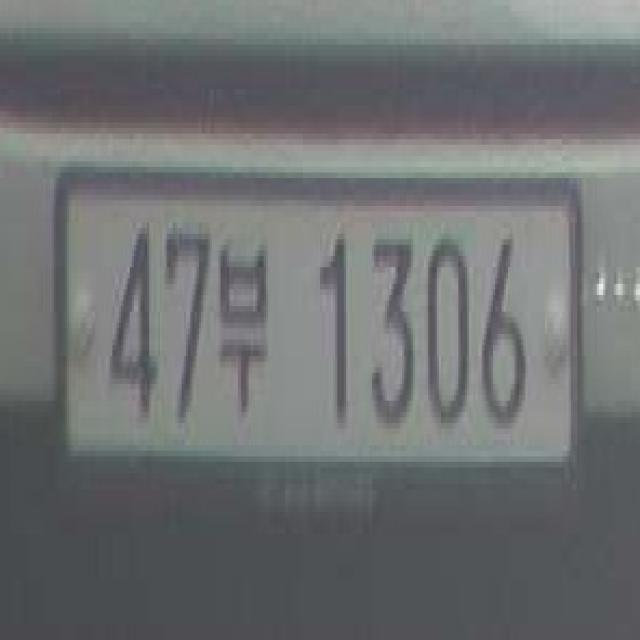0: (423, 232, 473, 434)
1: (314, 220, 357, 440)
3: (366, 228, 418, 442)
4: (104, 212, 162, 430)
6: (478, 224, 530, 456)
7: (166, 217, 210, 440)
bu: (216, 232, 271, 436)
license_plate: (41, 142, 590, 514)
